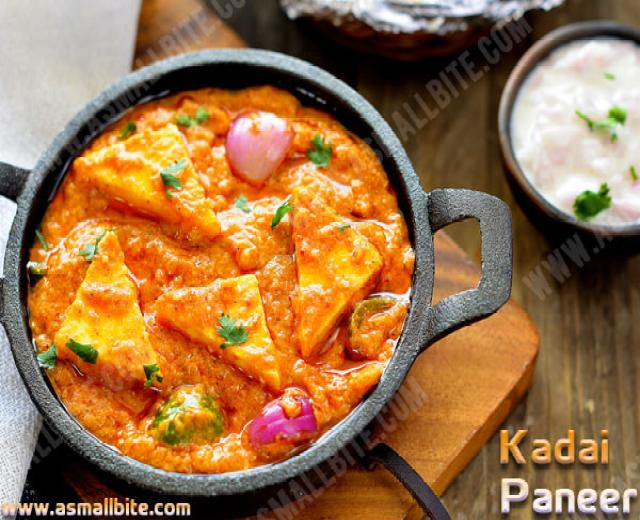kadai paneer: (28, 86, 416, 472)
